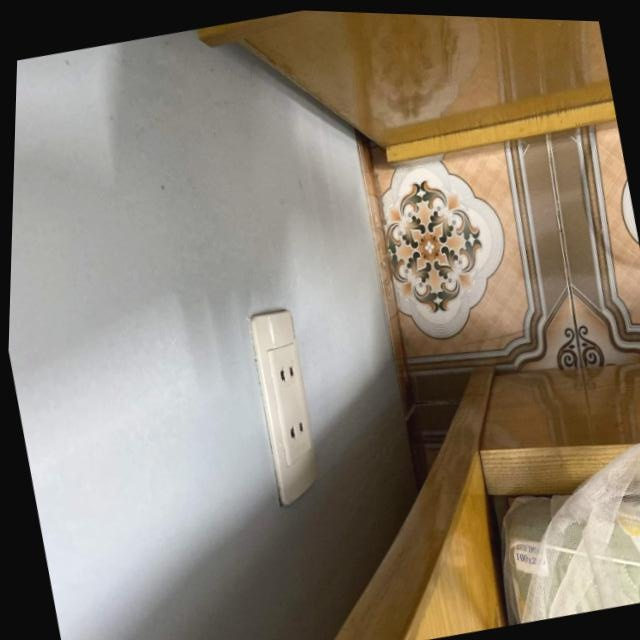outlet: (240, 307, 331, 509)
